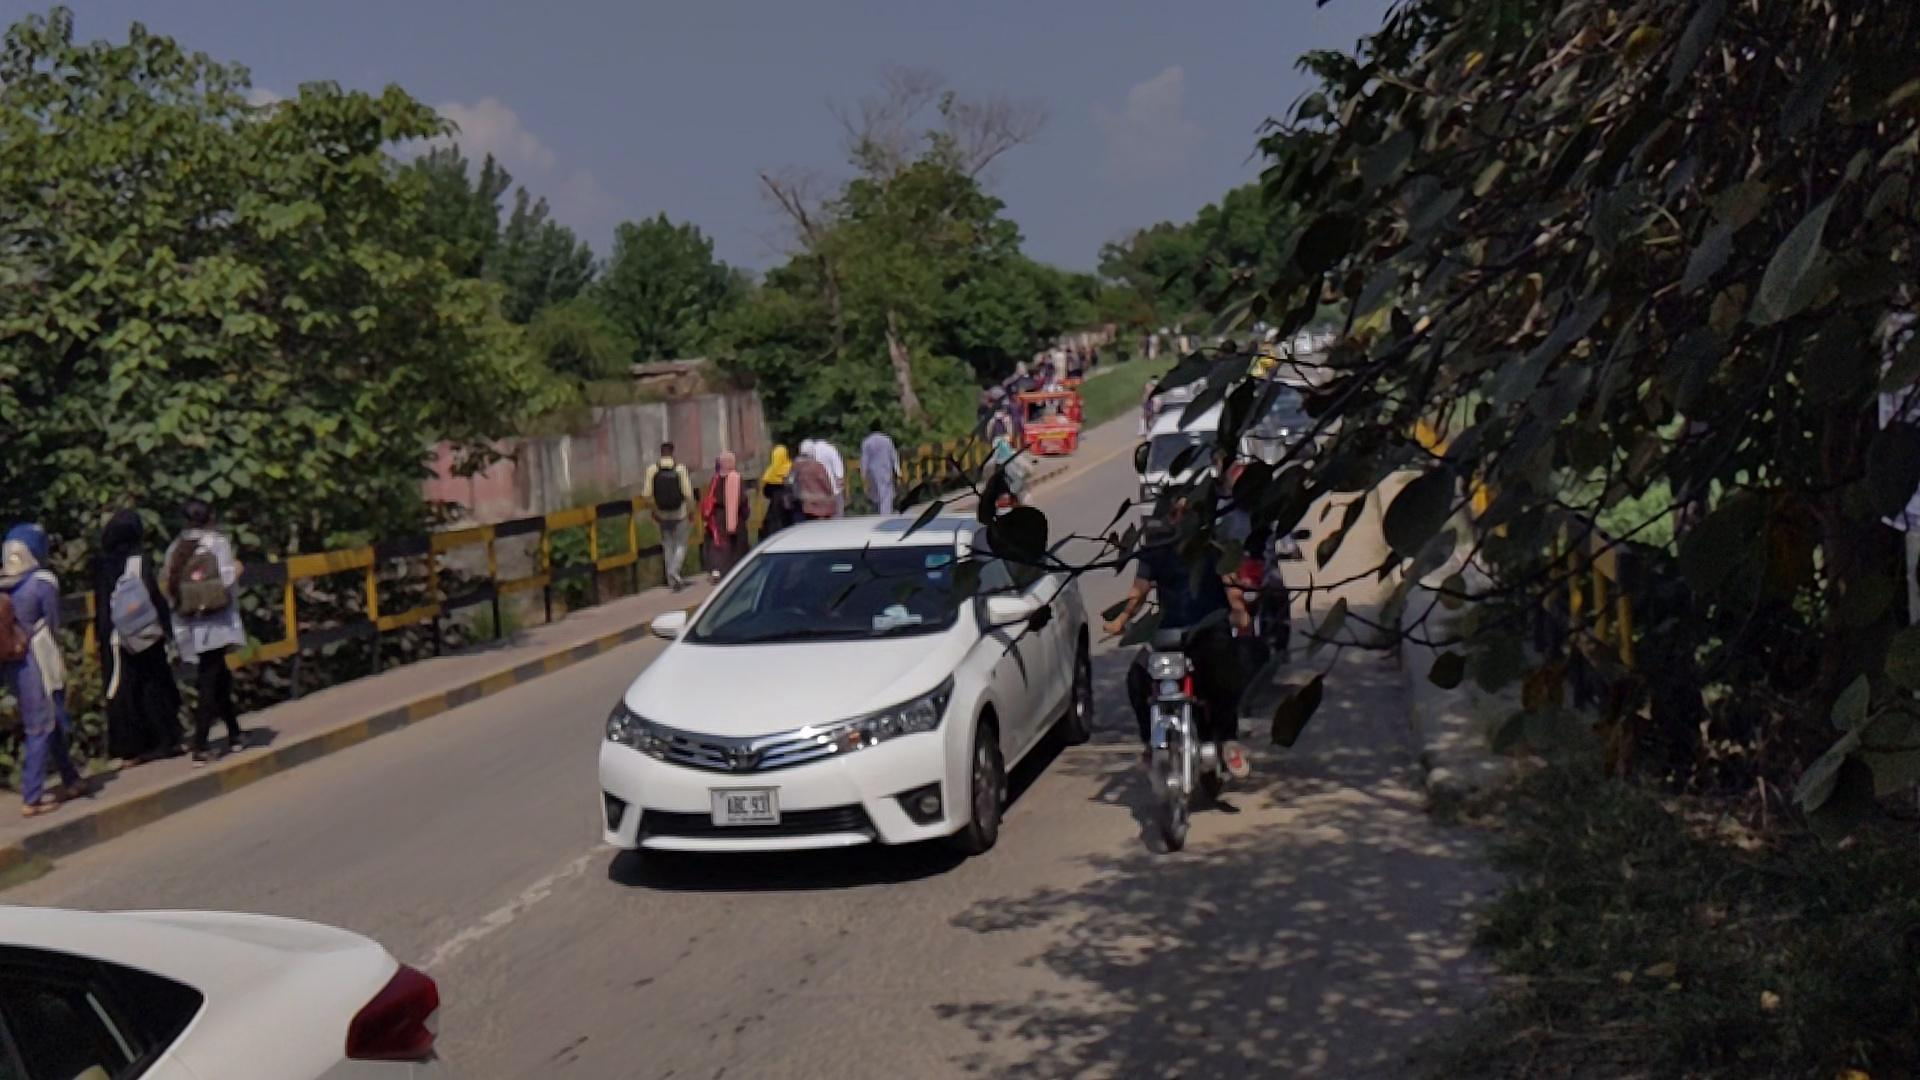windshield: (684, 547, 957, 637)
